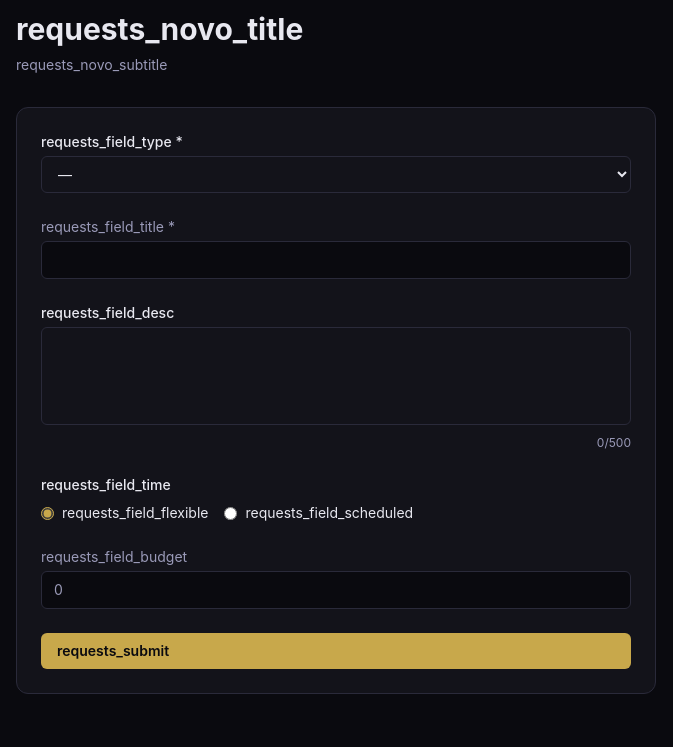
Test: recovers the new-request form after fetch rejects
Step 1. Select "Quests" in the dropdown labelled "requests_field_type *" → [336, 174], box [41,156,631,193]
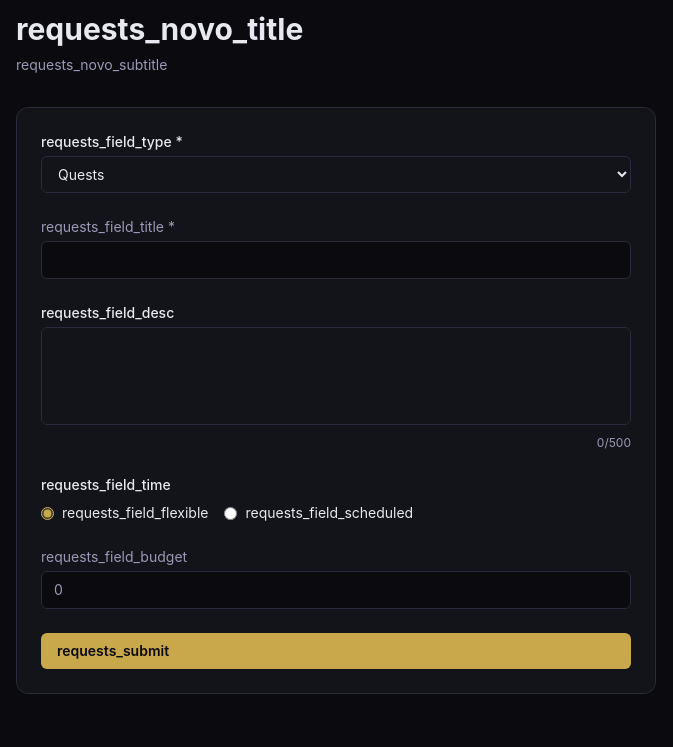
Step 2. Type "Quest help" into the field labelled "requests_field_title *" → [336, 260], box [41,241,631,279]
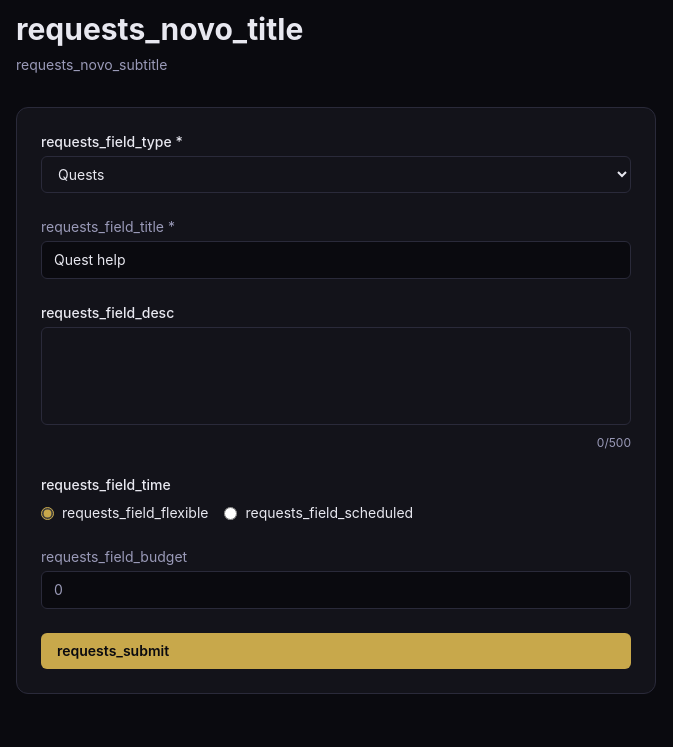
Step 3. Click the button "requests_submit" → [113, 650], box [41,633,631,669]
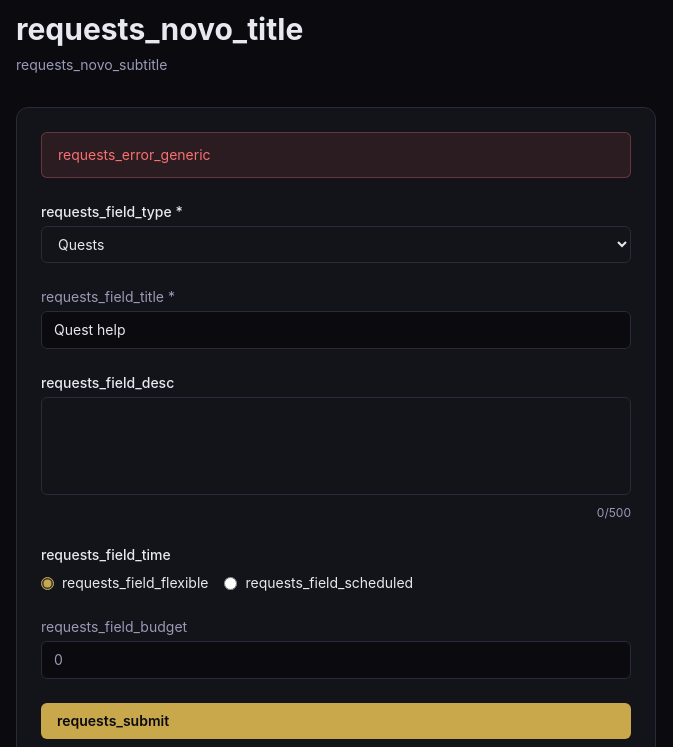
Expected: the button "requests_submit" is enabled, [41,703,631,739]
Expected: the message reads "requests_error_generic", [58,146,210,163]
